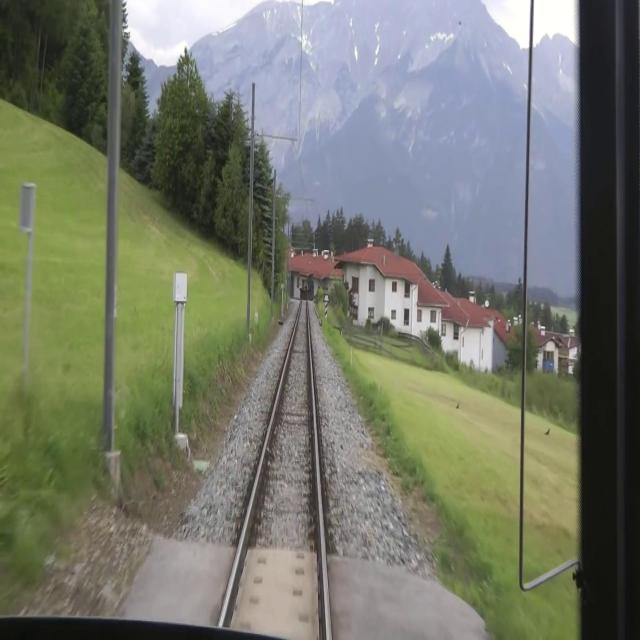rail-track: (219, 301, 325, 639)
